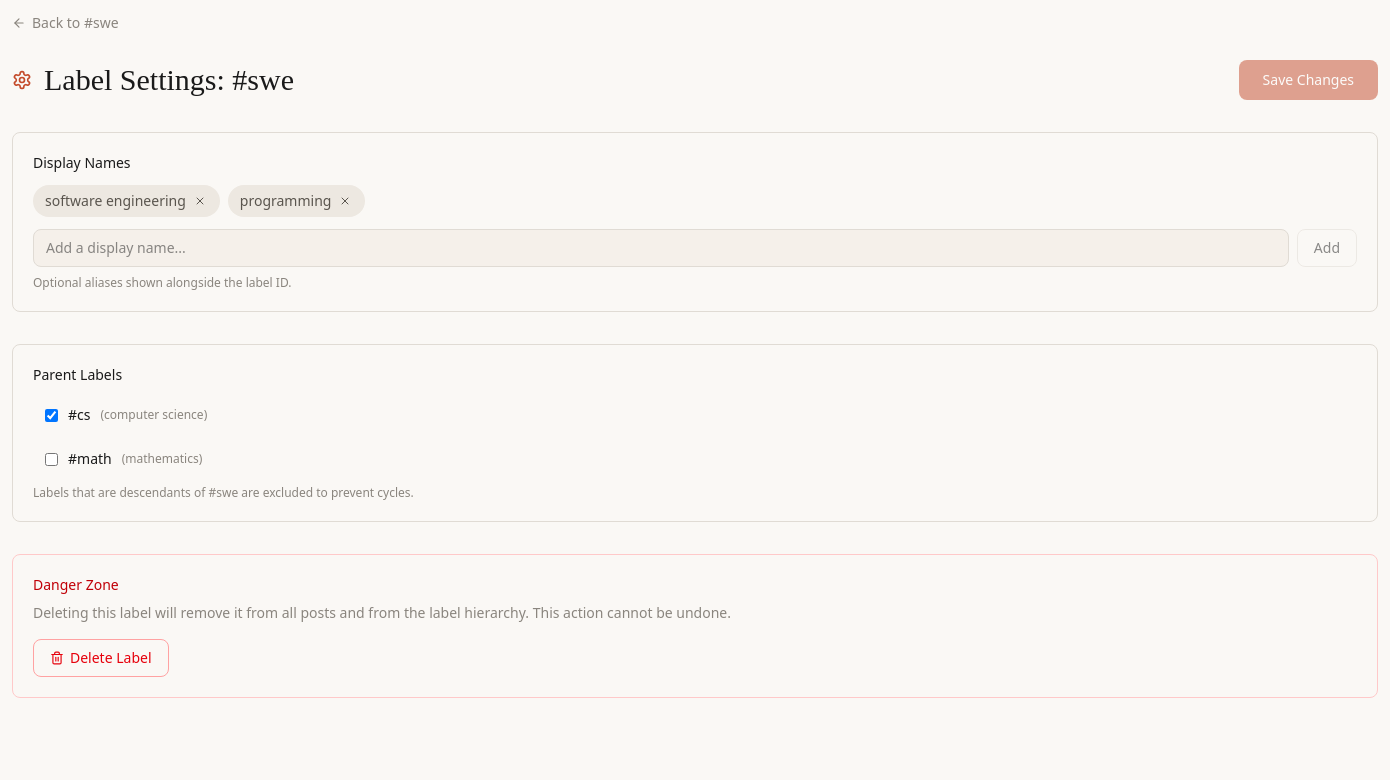
Test: LabelSettingsPage › shows 409 cycle error on save
This screenshot has width=1390, height=780.
Check: the text "software engineering" is shown, box [33, 185, 220, 217]
Toggle math parent to make form dirty
Click the checkbox labelled "#math (mathematics)": click(52, 459) [45, 452, 58, 466]
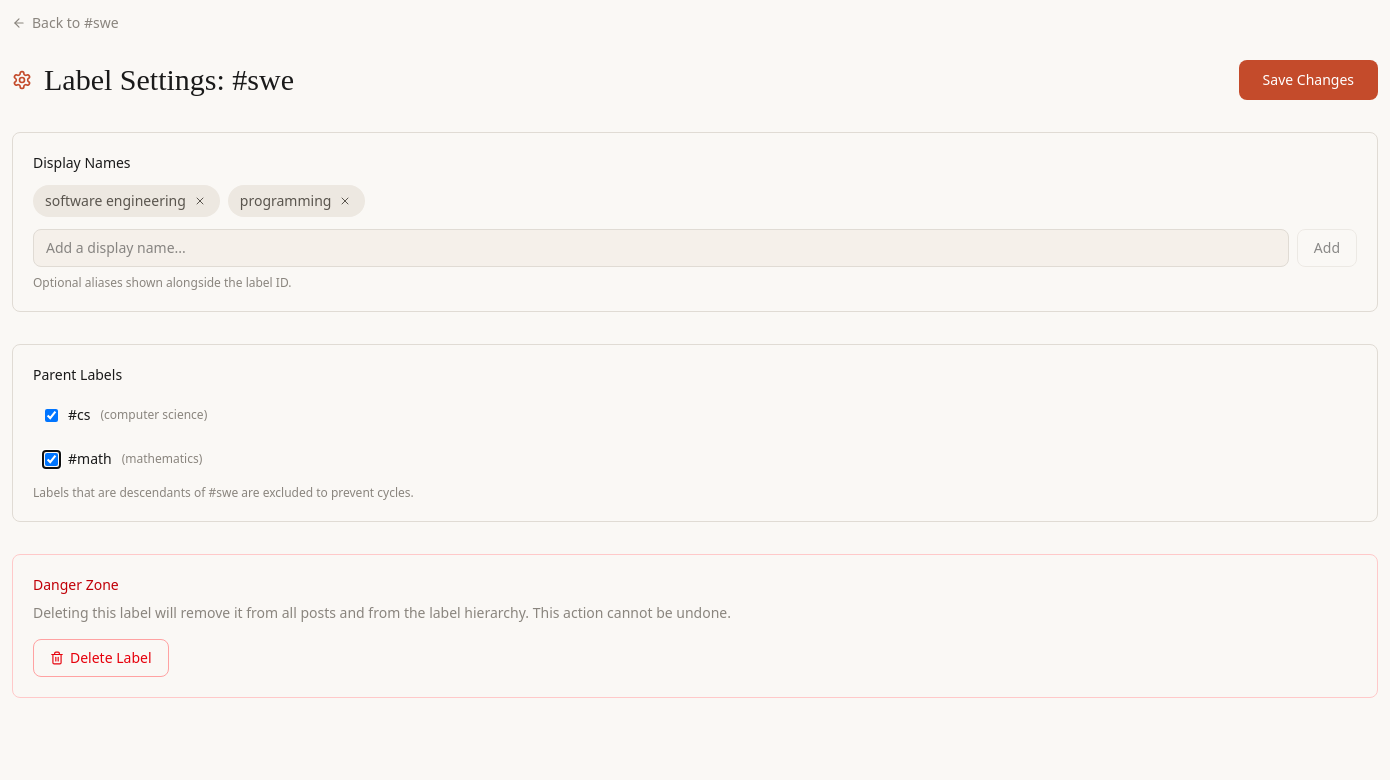
Click the button "Save Changes": click(1308, 80) [1239, 60, 1378, 100]
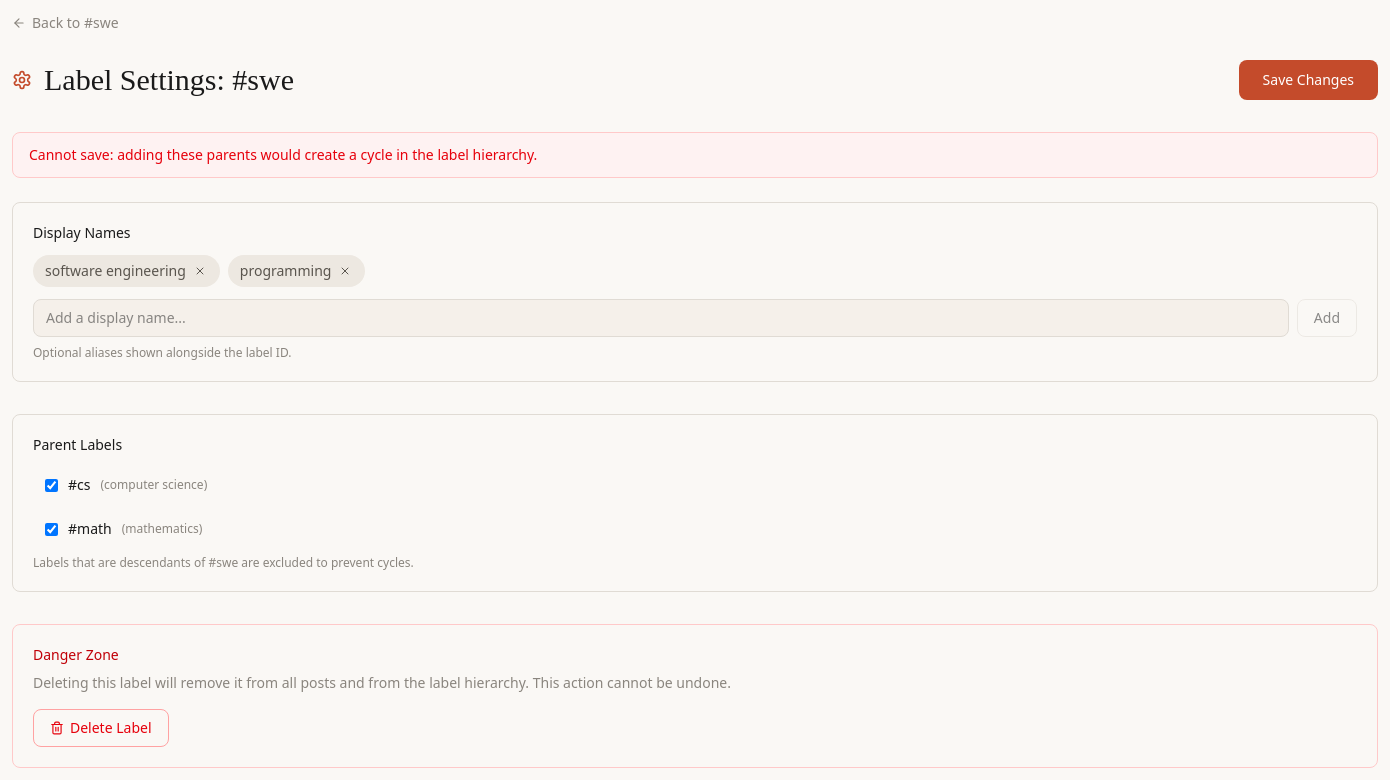
Check: the text "create a cycle" is shown, box [29, 145, 537, 164]
